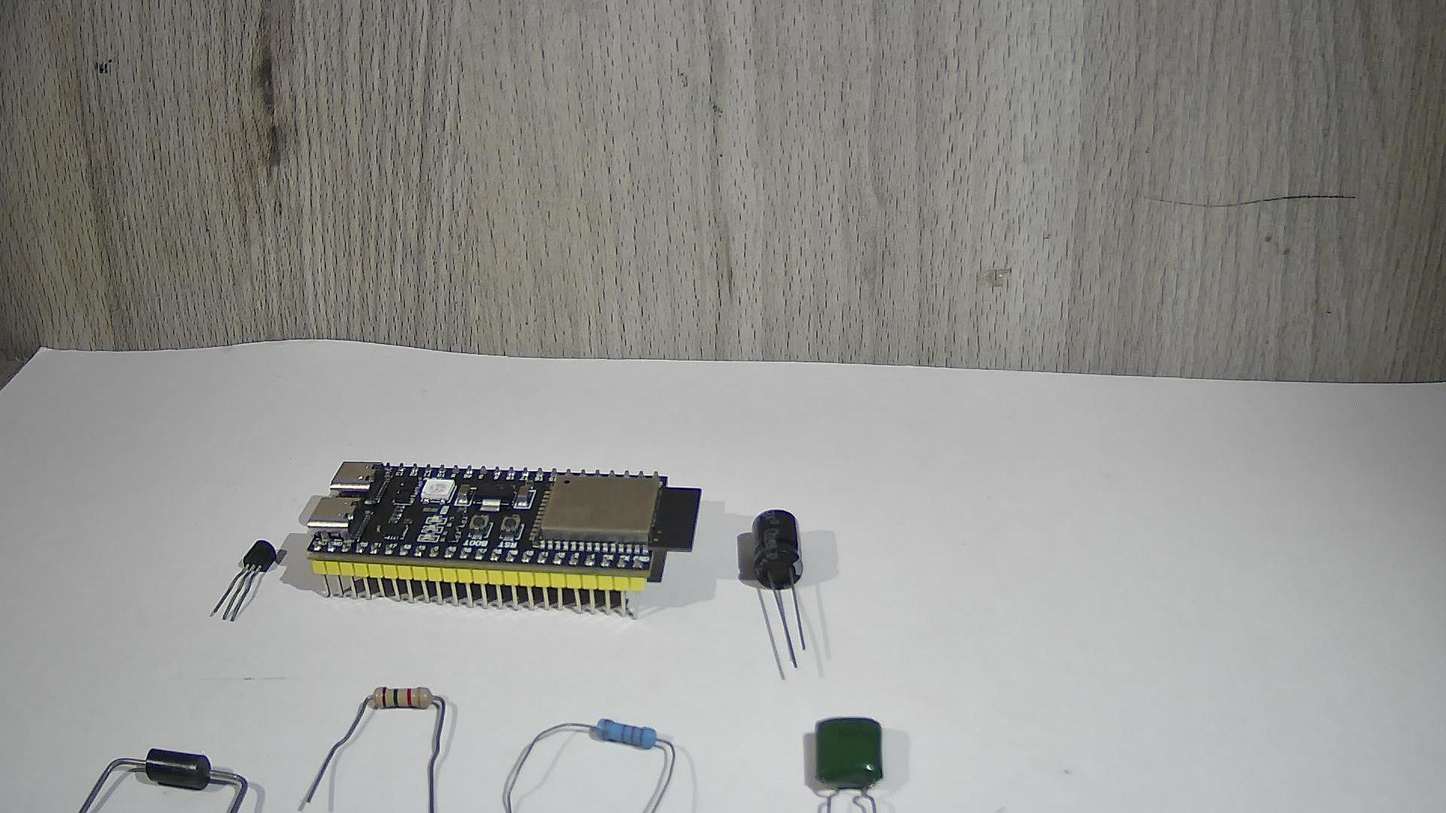Capacitor: (743, 494, 823, 670)
Diodo: (20, 733, 263, 813)
ESP32: (295, 434, 705, 636)
Resistencia: (505, 693, 695, 813), (299, 678, 450, 813)
Transistor: (206, 527, 282, 634)
capacitor ceramico: (786, 705, 898, 813)
